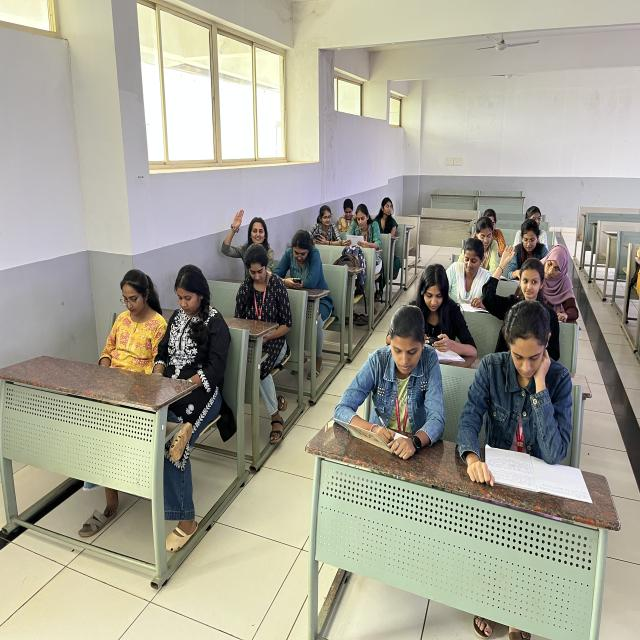Hand Rising: (482, 244, 558, 326), (220, 193, 276, 259)
Reading: (462, 294, 608, 516), (344, 200, 386, 288)
Using Phone: (153, 262, 232, 430), (397, 260, 480, 360), (277, 227, 333, 334), (306, 197, 342, 249)
Writing: (344, 292, 454, 463)
